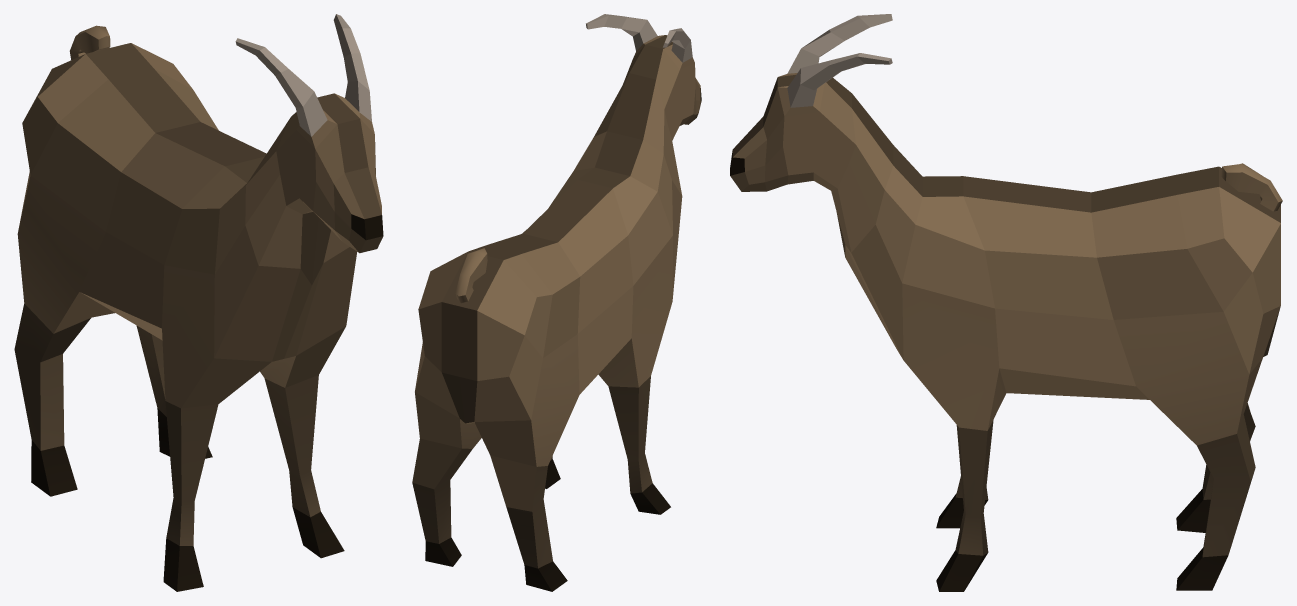
The model's file is Goat.fbx.
3 views of the same model, side by side, from view 1: azimuth 30°, elevation 25°; view 2: azimuth 150°, elevation 25°; view 3: azimuth 270°, elevation 25° (orthographic). The views are drawn at different scales.
Visible parts, largest first — view 1: pCube4, pCube2; view 2: pCube4, pCube2; view 3: pCube4, pCube2.
Boxes of the visible parts, box(x1,y1,x2,y2) form: pCube4: box(14, 14, 383, 591); pCube2: box(69, 25, 110, 59); pCube4: box(412, 14, 701, 591); pCube2: box(455, 248, 487, 303); pCube4: box(730, 14, 1280, 591); pCube2: box(1221, 163, 1282, 211).
Size of the model in its own units: 65.73 by 212 by 204.
